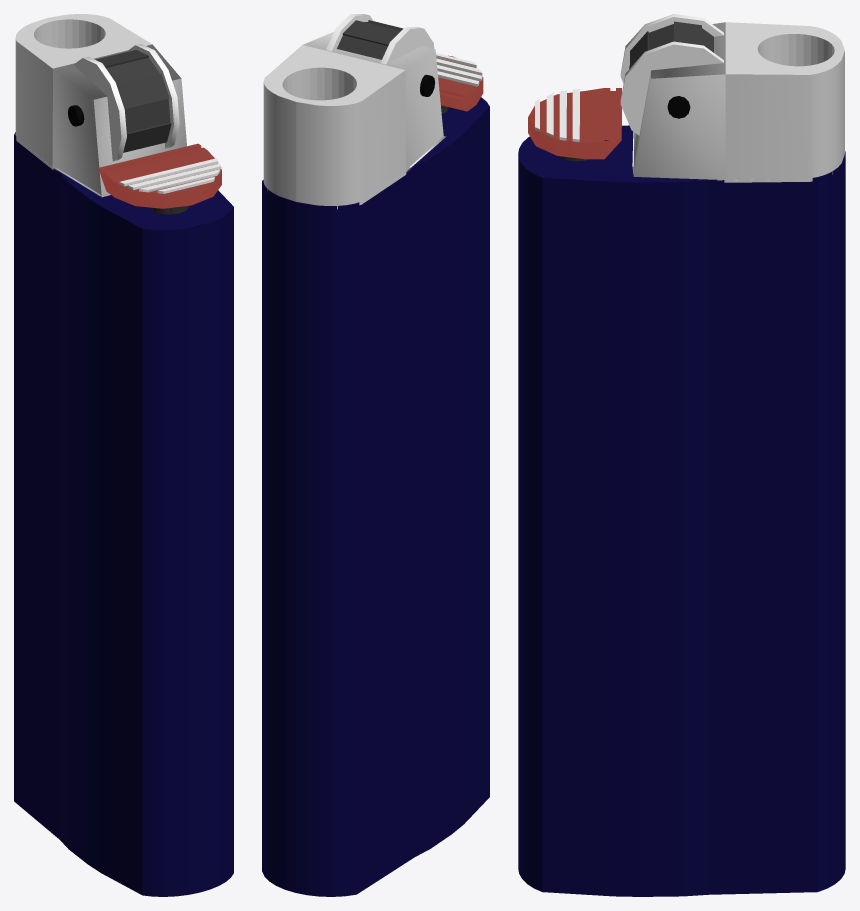
The model's file is lighter.glb.
The picture shows the model from 3 angles, left to right: view 1: azimuth 30°, elevation 25°; view 2: azimuth 150°, elevation 25°; view 3: azimuth 270°, elevation 25°; orthographic projection. The views are drawn at different scales.
Parts seen in each view (by area): view 1: Cylinder, Object_32; view 2: Cylinder, Object_32; view 3: Cylinder, Object_32.
Boxes of the visible parts, x1,y1,x2,y2 form: Cylinder: [14, 14, 233, 896]; Object_32: [73, 44, 179, 161]; Cylinder: [262, 32, 489, 896]; Object_32: [326, 14, 434, 64]; Cylinder: [518, 22, 845, 896]; Object_32: [620, 14, 723, 135].
Bounding box in the file's own units: 0.0282 × 0.1921 × 0.068.
